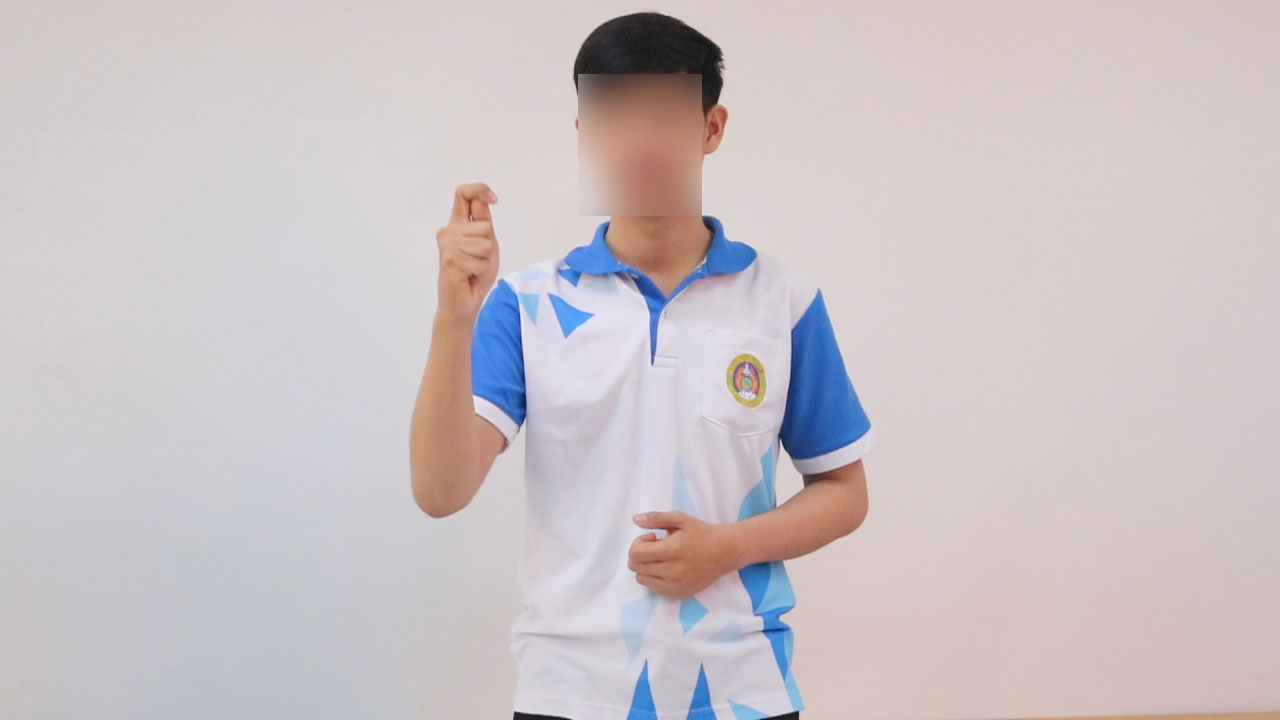or: (433, 175, 503, 319)
